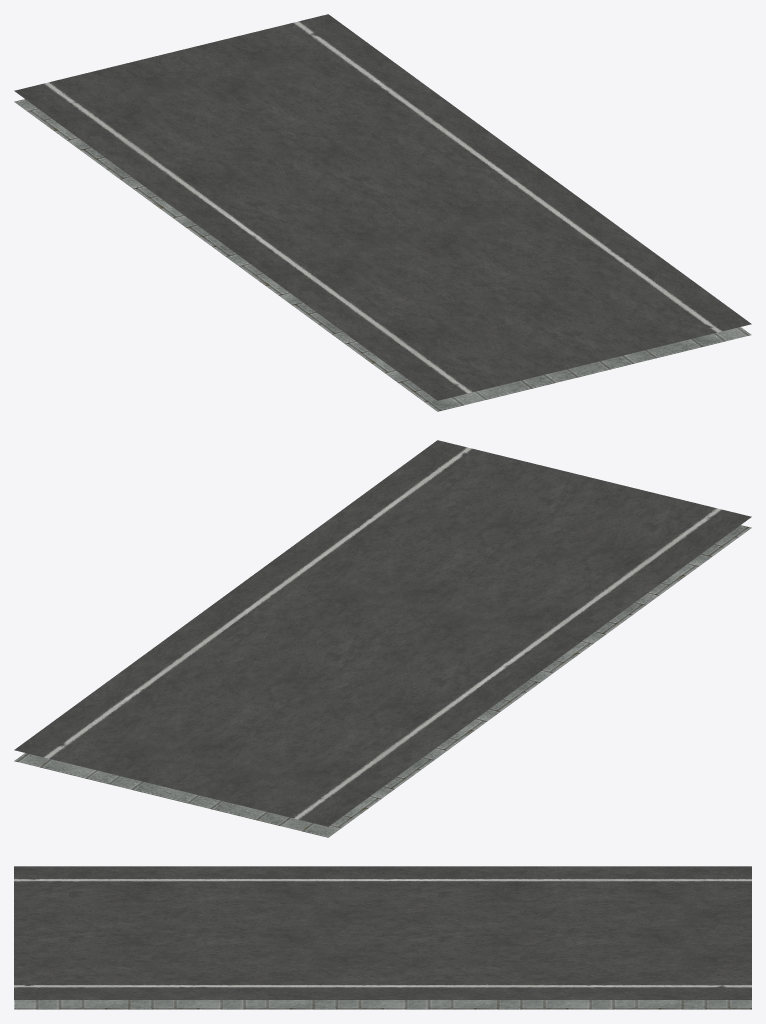
Rendered from Straight Oneway No Sides.fbx.
3 renders of one model, top to bottom at view 1: azimuth 30°, elevation 25°; view 2: azimuth 150°, elevation 25°; view 3: azimuth 270°, elevation 25°, orthographic. The views are drawn at different scales.
Visible parts, largest first — view 1: Plane; view 2: Plane; view 3: Plane.
Boxes of the visible parts, x1,y1,x2,y2 form: Plane: (14, 14, 751, 411); Plane: (14, 440, 751, 837); Plane: (14, 866, 751, 1009).
Bounding box in the file's own units: 600 × 20 × 1400.
